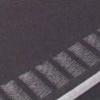Crosswalk: (0, 47, 99, 100)
